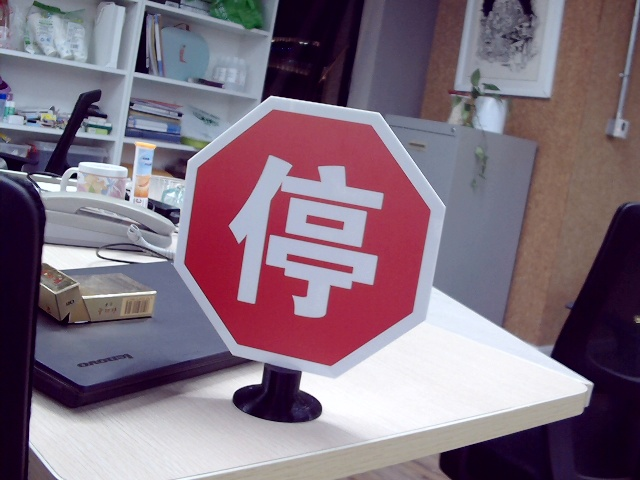stop: (231, 144, 382, 319)
